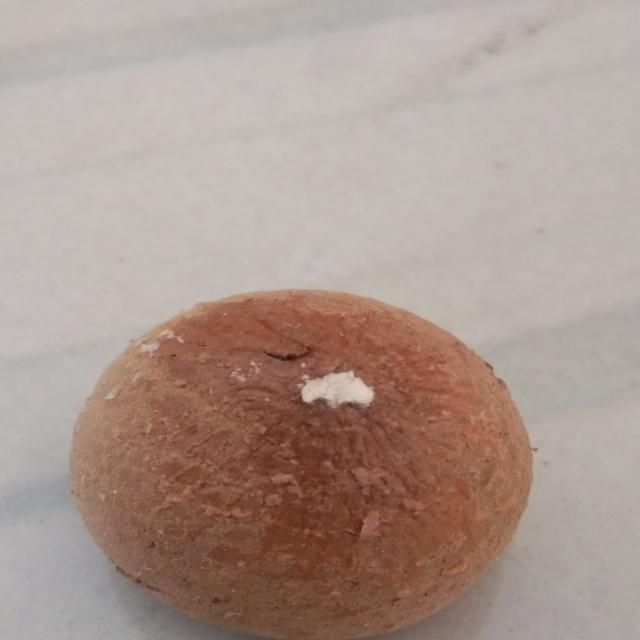good: (59, 281, 566, 640)
